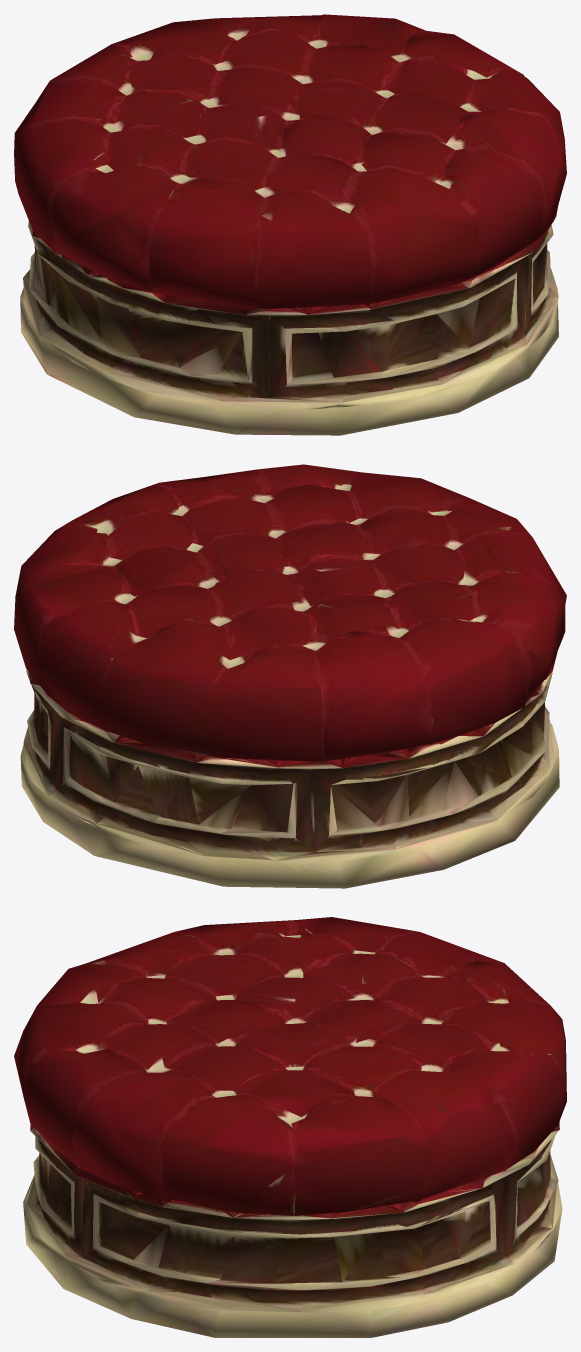
The model's file is ottoman.glb.
3 views of the same model, one above another, from view 1: azimuth 30°, elevation 25°; view 2: azimuth 150°, elevation 25°; view 3: azimuth 270°, elevation 25° (orthographic).
Parts seen in each view (by area): view 1: Mesh_0; view 2: Mesh_0; view 3: Mesh_0.
Boxes of the visible parts, <box> form: Mesh_0: <box>14,14,566,435</box>; Mesh_0: <box>14,464,566,888</box>; Mesh_0: <box>14,917,566,1337</box>.
Bounding box in the file's own units: 1.16 × 0.5 × 1.15.
Materials: 1 (1 with a texture image).
